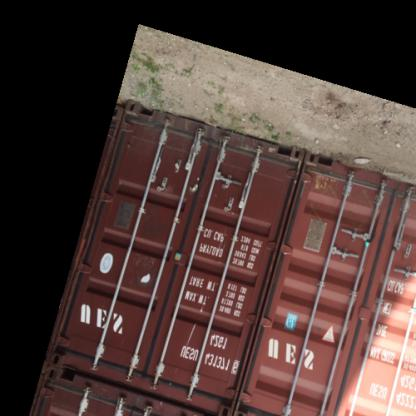Damage: (160, 126, 277, 184), (294, 158, 378, 222)
